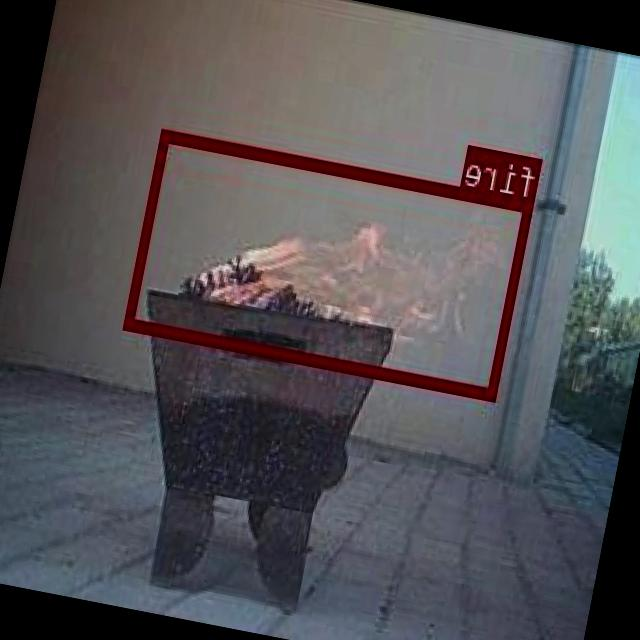fire: (126, 128, 535, 399)
